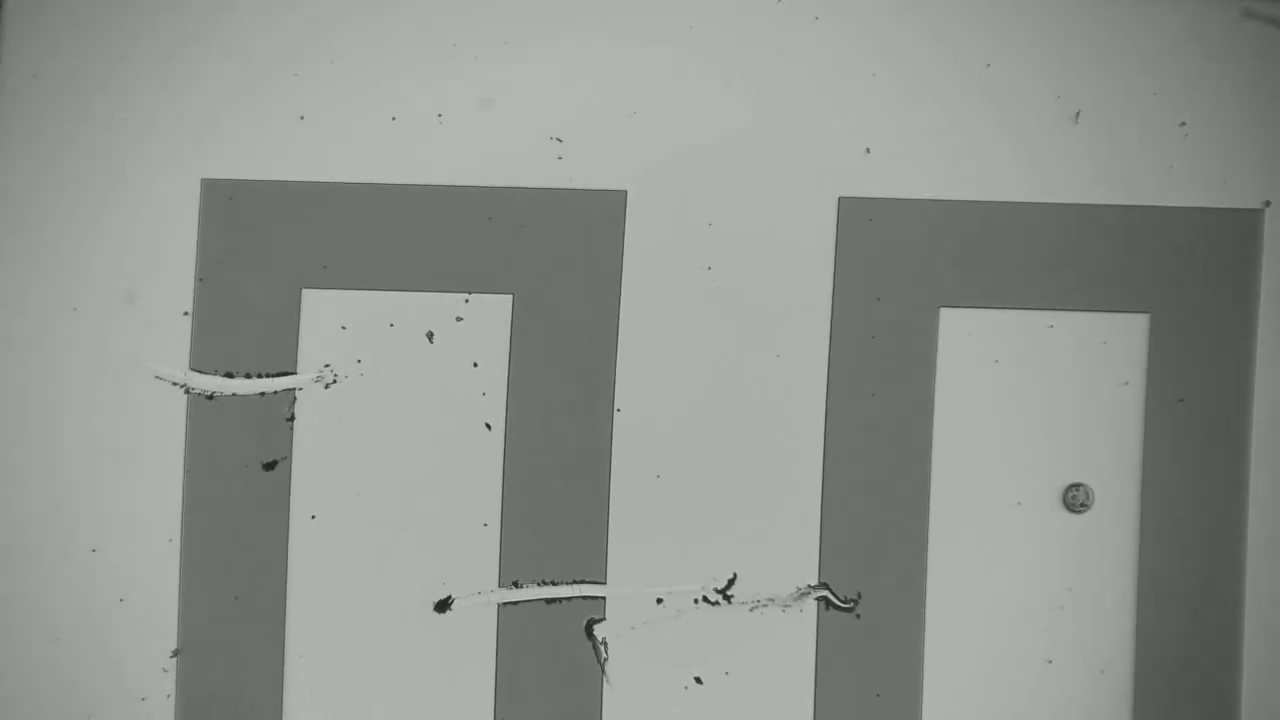Short_circuit: (455, 558, 635, 638), (145, 345, 327, 414)
